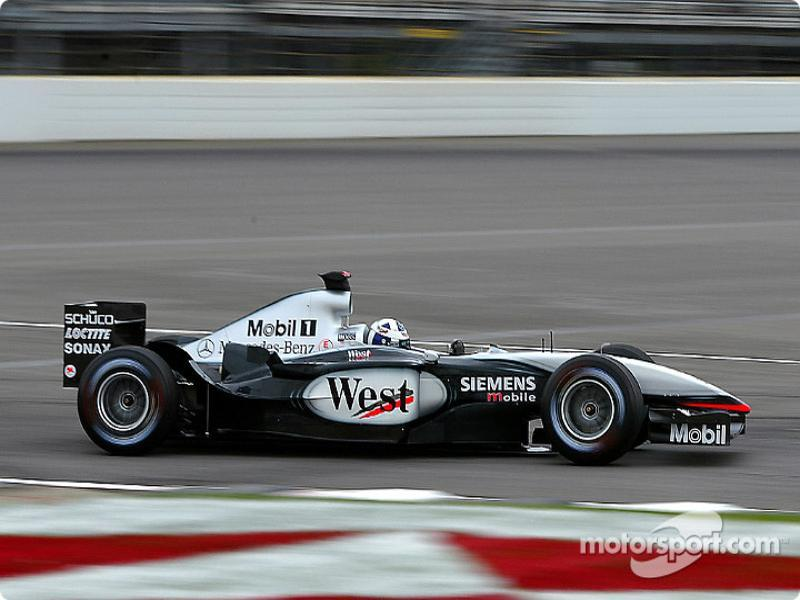f1: (58, 213, 766, 477)
